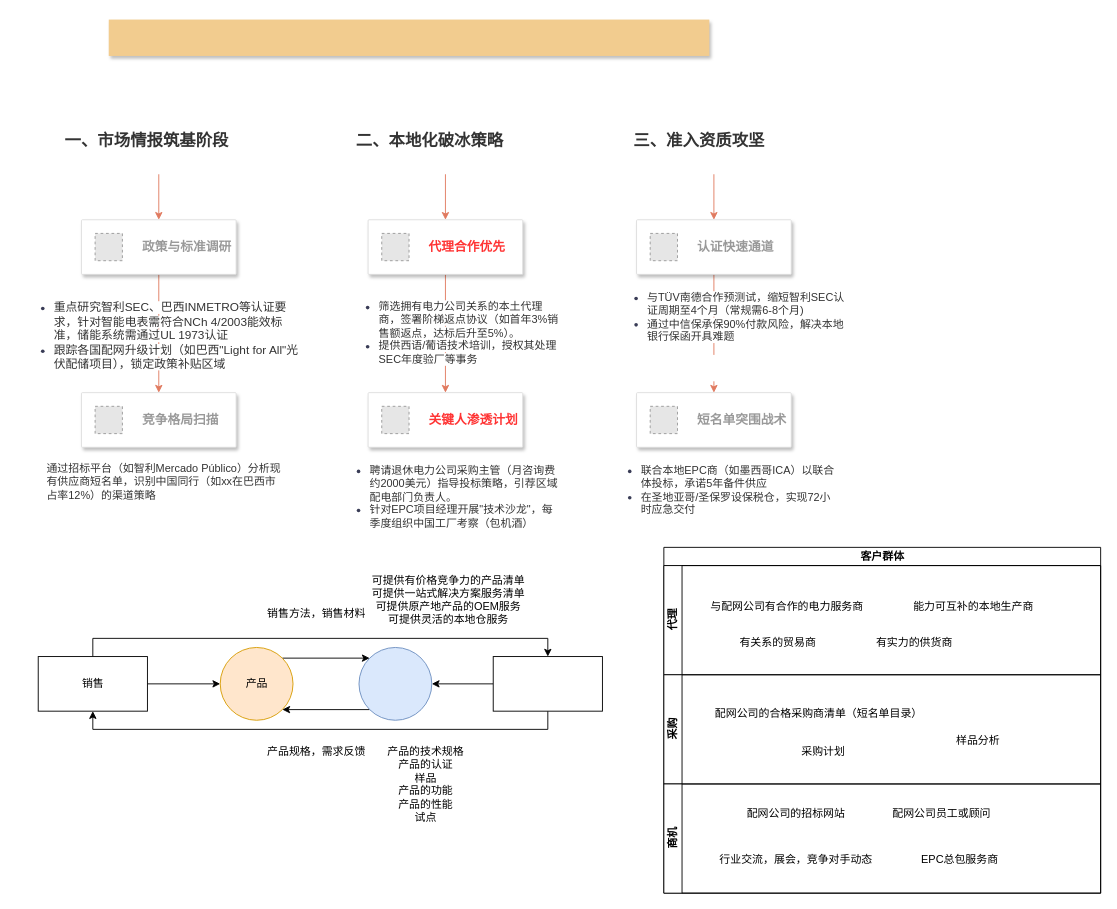
This 1117x909 diagram has some shape labels left out. Grey dashed boxes stand in for pictures. Each missing label, with the centre of its shape:
Business Mode for Latam: (409,38)
客户: (547,683)
需求: (395,683)
